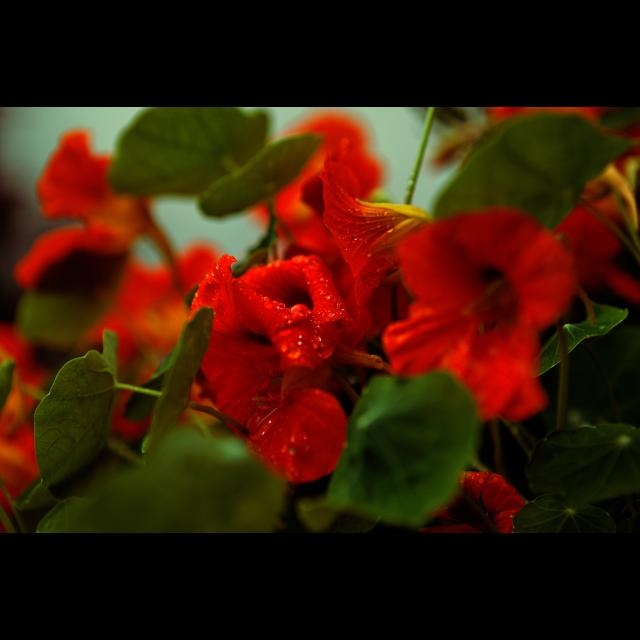Flower: (372, 184, 582, 430), (186, 257, 360, 483), (13, 122, 159, 294), (252, 110, 384, 270), (316, 158, 430, 316), (1, 330, 40, 510), (552, 199, 622, 289), (431, 473, 523, 533), (484, 107, 600, 121)
